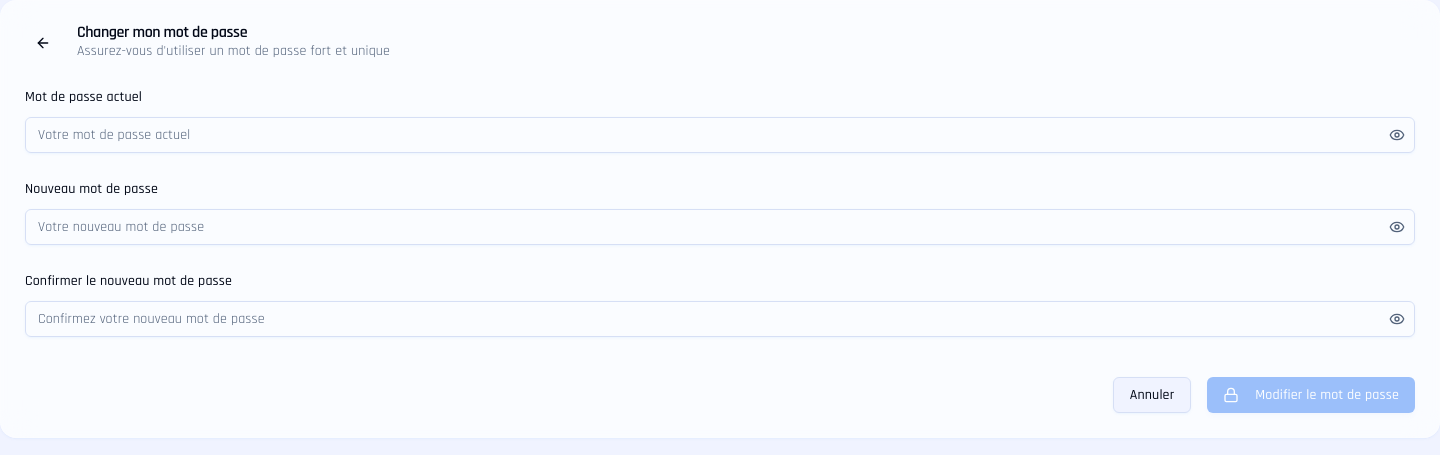
Scenario: ChangePasswordForm › Soumission › should enable submit button when form is dirty
Expected: the button with test id "submit-button" is disabled, top-left (1207, 377), bottom-right (1415, 413)
Type "OldPass123!" into the password field with test id "input-currentPassword".
click(720, 135); type("OldPass123!")  # box top-left (25, 117), bottom-right (1415, 153)
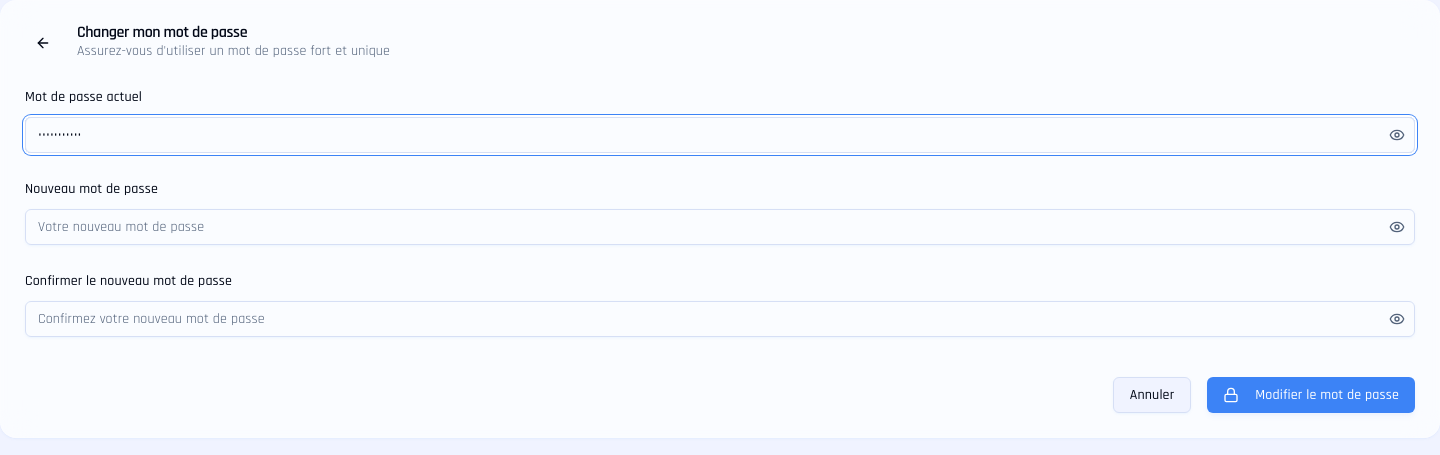
Expected: the button with test id "submit-button" is enabled, top-left (1207, 377), bottom-right (1415, 413)
